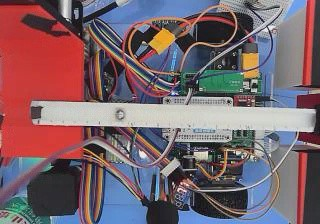ironball: (114, 109, 124, 119)
